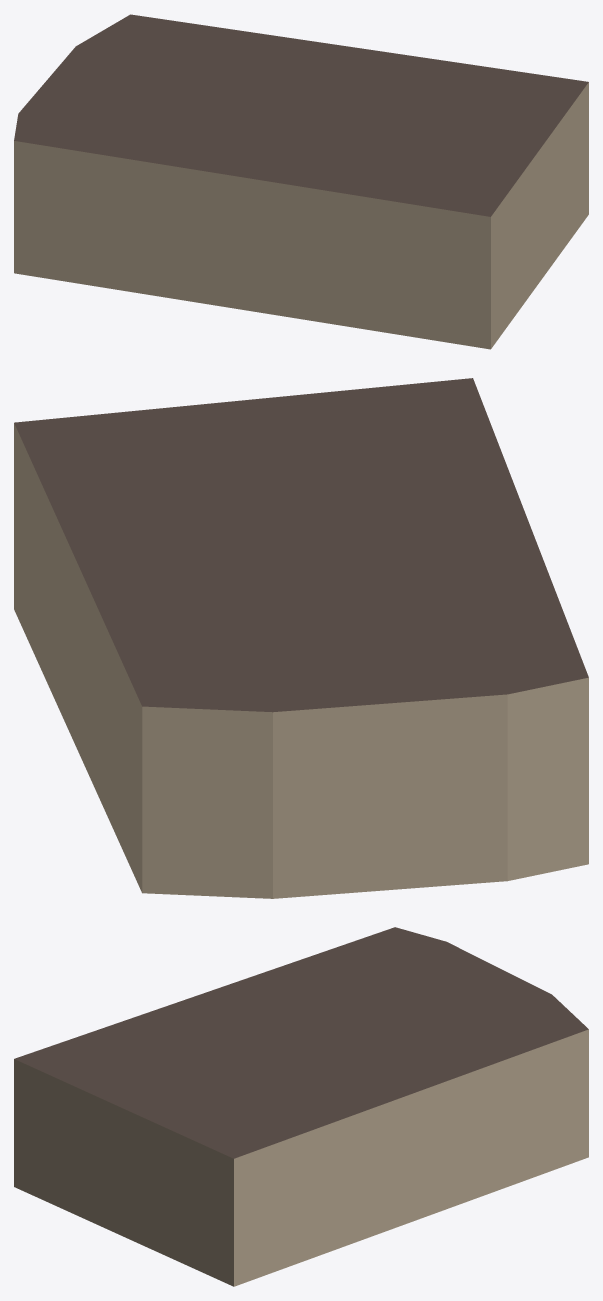
3 views of the same model, one above another, from view 1: azimuth 30°, elevation 25°; view 2: azimuth 150°, elevation 25°; view 3: azimuth 270°, elevation 25° (orthographic). The views are drawn at different scales.
Parts seen in each view (by area): view 1: HP-w1515076951; view 2: HP-w1515076951; view 3: HP-w1515076951.
Part boxes in pixels (bbox=[...]): HP-w1515076951: bbox=[14, 14, 588, 349]; HP-w1515076951: bbox=[14, 378, 588, 898]; HP-w1515076951: bbox=[14, 927, 588, 1286].
Bounding box in the file's own units: 34.93 × 9 × 36.63.
